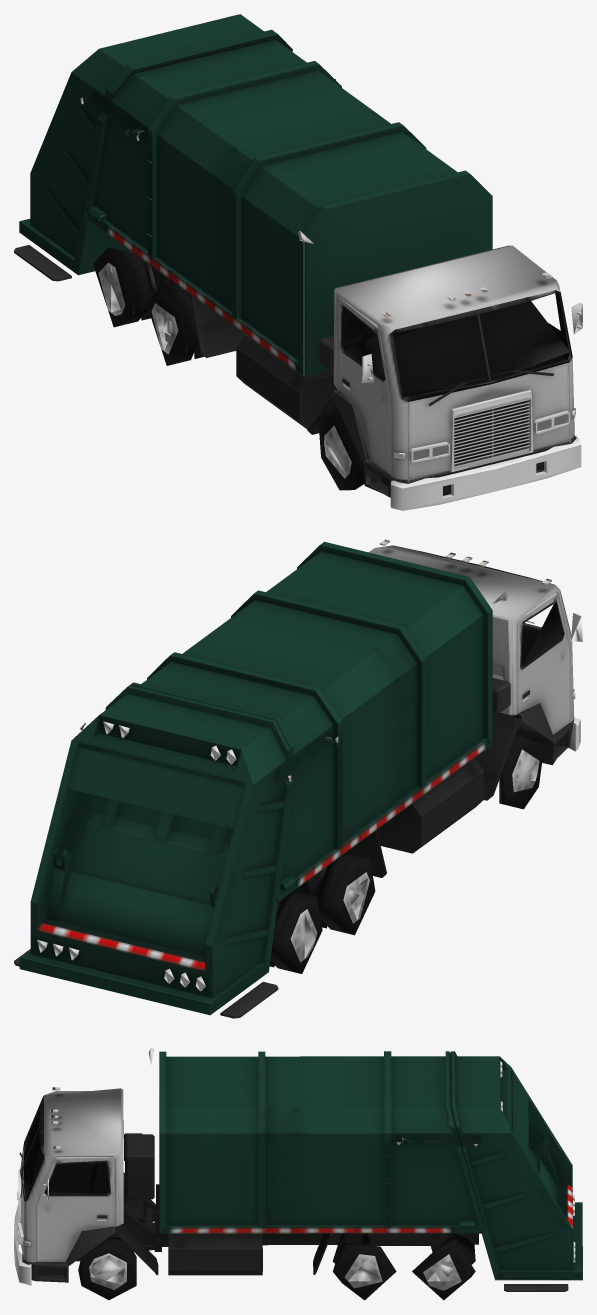
Rendered from svc_garbage_truck.glb.
The picture shows the model from 3 angles, top to bottom: view 1: azimuth 30°, elevation 25°; view 2: azimuth 150°, elevation 25°; view 3: azimuth 270°, elevation 25°; orthographic projection. The views are drawn at different scales.
Visible parts, largest first — view 1: svc_garbage_truck; view 2: svc_garbage_truck; view 3: svc_garbage_truck.
Boxes of the visible parts, x1,y1,x2,y2 form: svc_garbage_truck: (14, 14, 582, 510); svc_garbage_truck: (14, 539, 582, 1018); svc_garbage_truck: (14, 1047, 582, 1300).
Bounding box in the file's own units: 2.46 × 2.63 × 7.2.
Materials: 1 (1 with a texture image).
